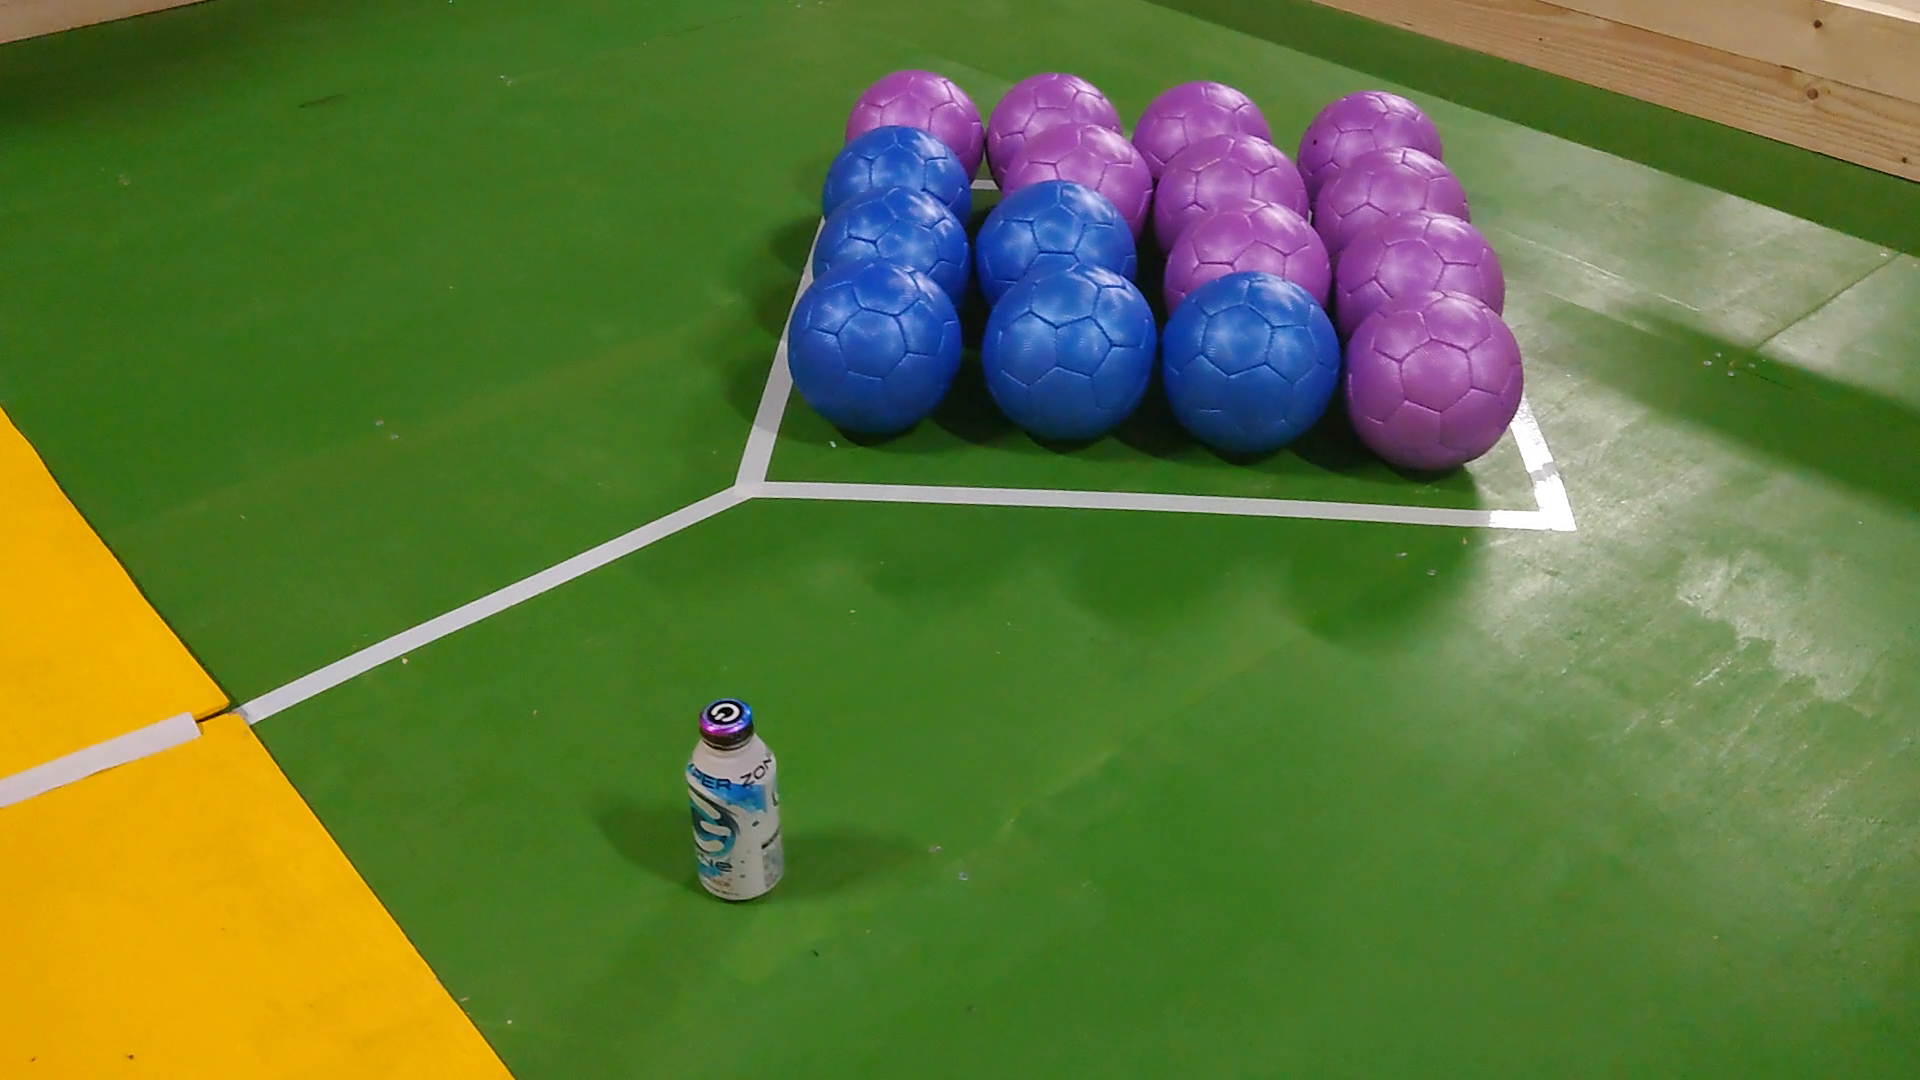blue: (980, 258, 1159, 440), (1163, 272, 1338, 454), (787, 261, 960, 438), (807, 190, 973, 290), (976, 179, 1139, 281), (816, 124, 969, 215)
purple: (1349, 284, 1524, 471), (1163, 196, 1336, 301), (996, 117, 1150, 225), (1338, 212, 1502, 314), (1156, 131, 1312, 232), (1316, 146, 1469, 241), (839, 69, 982, 164), (1300, 91, 1449, 173), (989, 71, 1120, 160), (1133, 82, 1276, 153)
